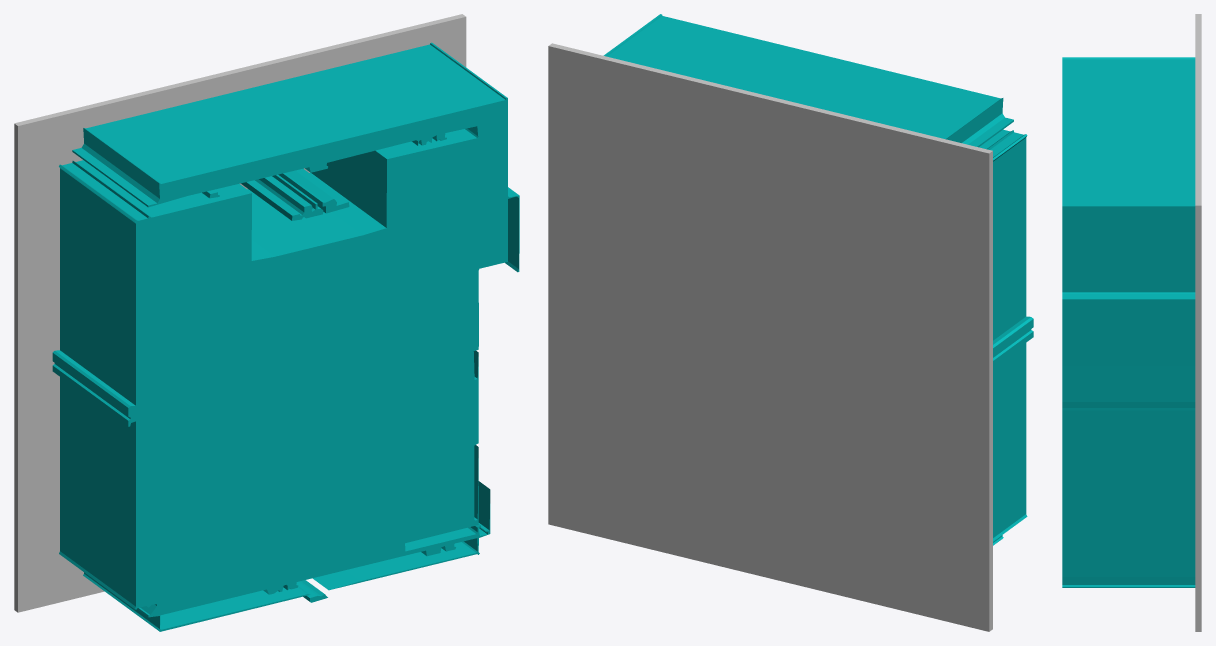
3 views of the same model, side by side, from view 1: azimuth 30°, elevation 25°; view 2: azimuth 150°, elevation 25°; view 3: azimuth 270°, elevation 25° (orthographic). The views are drawn at different scales.
Visible parts, largest first — view 1: world; view 2: world; view 3: world.
Part boxes in pixels (x1,y1,x2,y2): world: [14, 14, 519, 631]; world: [548, 14, 1033, 631]; world: [1062, 14, 1201, 631].
Size of the model in its own units: 10.23 by 10.61 by 3.15.
